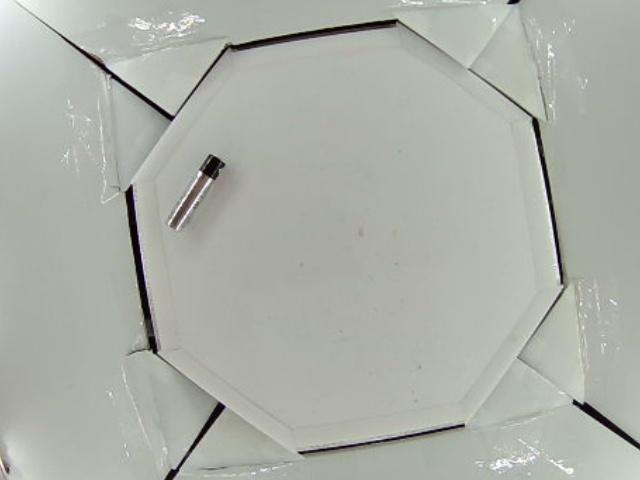Battery: (167, 151, 228, 238)
